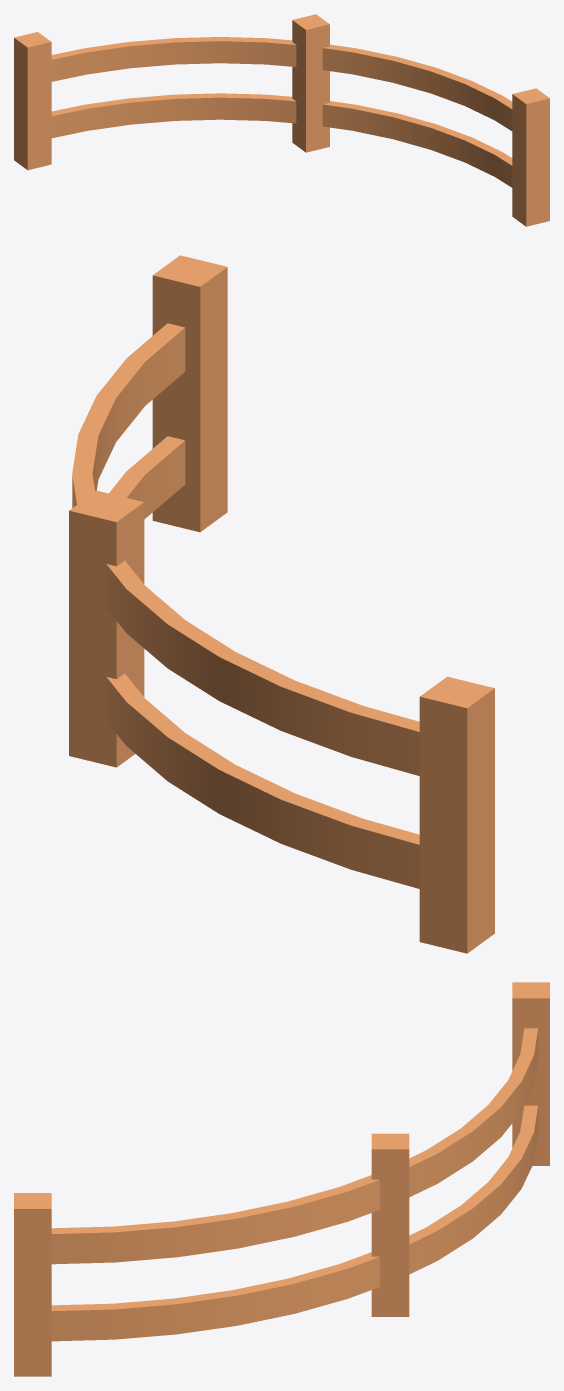
The model's file is fence_cornerRoundStrong.fbx.
3 renders of one model, top to bottom at view 1: azimuth 30°, elevation 25°; view 2: azimuth 150°, elevation 25°; view 3: azimuth 270°, elevation 25°, orthographic. The views are drawn at different scales.
Visible parts, largest first — view 1: fence_cornerRoundStrong; view 2: fence_cornerRoundStrong; view 3: fence_cornerRoundStrong.
Part boxes in pixels (x1=…): fence_cornerRoundStrong: x1=14, y1=14, x2=549, y2=226; fence_cornerRoundStrong: x1=69, y1=255, x2=494, y2=953; fence_cornerRoundStrong: x1=14, y1=982, x2=549, y2=1376.
Bounding box in the file's own units: 10 × 3.45 × 10.
